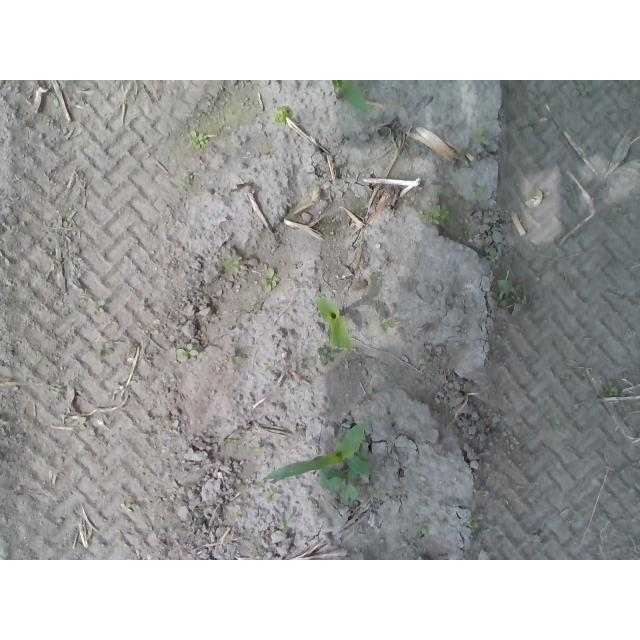Maize: (265, 415, 374, 509), (308, 296, 352, 351), (328, 80, 377, 116)
Weeds: (494, 272, 523, 309), (225, 95, 249, 122), (422, 205, 450, 228), (259, 267, 280, 294), (187, 130, 213, 150), (175, 342, 198, 363), (599, 381, 619, 401), (570, 80, 594, 96), (523, 112, 541, 133), (222, 255, 242, 273), (379, 316, 399, 333), (416, 351, 436, 366), (274, 106, 291, 123), (126, 93, 146, 107), (318, 346, 333, 364), (563, 181, 578, 199), (469, 183, 484, 200), (263, 489, 280, 503), (293, 359, 308, 374), (369, 483, 384, 498), (485, 247, 500, 262), (227, 351, 242, 365), (276, 521, 290, 536), (472, 127, 485, 142), (469, 516, 482, 529), (417, 524, 431, 536), (370, 274, 382, 287), (264, 144, 277, 156), (177, 177, 191, 188), (225, 437, 240, 447), (92, 306, 104, 317), (246, 552, 262, 560)
